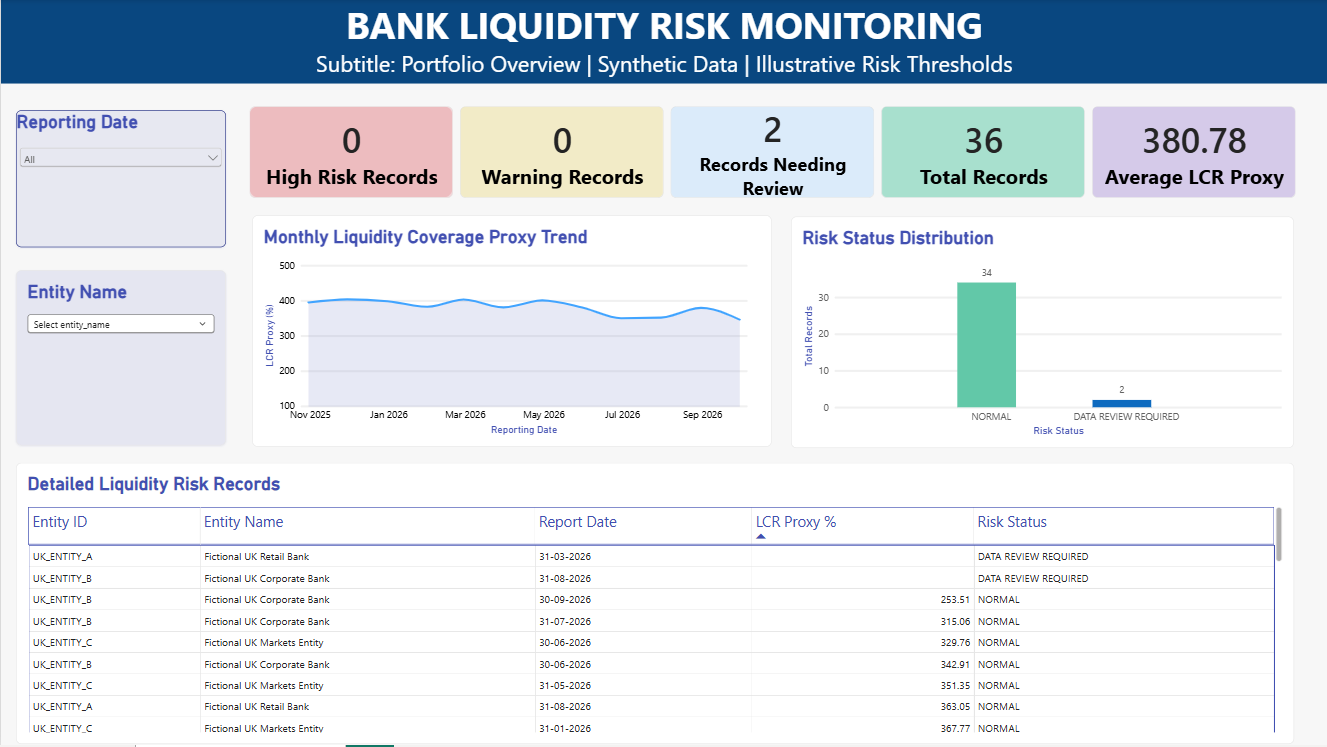

What the dashboard file says about the page in this screenshot:
{"tool":"powerbi","page":{"name":"Liquidity Risk Overview","canvas":[1920,1080],"ordinal":0},"visuals":[{"type":"textbox","box":[0,0,1920.4,122.2],"z":0},{"type":"cardVisual","fields":{"Data":["public balance_sheet.High Risk Records","public balance_sheet.Warning Records","public balance_sheet.Records Needing Review","public balance_sheet.Total Records","public balance_sheet.Average LCR Proxy"]},"box":[350,144.4,1535.2,153.7],"z":5},{"type":"lineChart","title":"Monthly Liquidity Coverage Proxy Trend","fields":{"Category":["public balance_sheet.report_date"],"Y":["Avg(public balance_sheet.LCR Proxy %)"]},"box":[363,313,751.9,335.2],"z":6},{"type":"clusteredColumnChart","title":"Risk Status Distribution","fields":{"Category":["public balance_sheet.Risk Status"],"Y":["CountNonNull(public balance_sheet.entity_id)"]},"box":[1144.4,314.8,727.8,335.2],"z":7},{"type":"tableEx","title":"Detailed Liquidity Risk Records","fields":{"Values":["public balance_sheet.entity_id","public balance_sheet.entity_name","public balance_sheet.report_date","public balance_sheet.LCR Proxy %","public balance_sheet.Risk Status"]},"box":[22.2,672.2,1850,407.4],"z":8},{"type":"slicer","title":"Reporting Date","fields":{"Values":["public balance_sheet.report_date"]},"box":[22.2,161.1,303.7,198.1],"z":9},{"type":"listSlicer","title":"Entity Name","fields":{"Values":["public balance_sheet.entity_name"]},"box":[22.2,392.6,303.7,253.7],"z":10}]}

Visuals, with their boxes in screenshot pixels (x1, y1, x2, y2), scaled from the page's 1920x1080 canvas onto the 1327x747 screenshot:
textbox: left=0, top=0, right=1326, bottom=85
cardVisual - public balance_sheet.High Risk Records x public balance_sheet.Warning Records: left=242, top=100, right=1303, bottom=206
"Monthly Liquidity Coverage Proxy Trend" lineChart: left=251, top=216, right=771, bottom=448
"Risk Status Distribution" clusteredColumnChart: left=791, top=218, right=1294, bottom=450
"Detailed Liquidity Risk Records" tableEx: left=15, top=465, right=1294, bottom=746
"Reporting Date" slicer: left=15, top=111, right=225, bottom=248
"Entity Name" listSlicer: left=15, top=272, right=225, bottom=447
